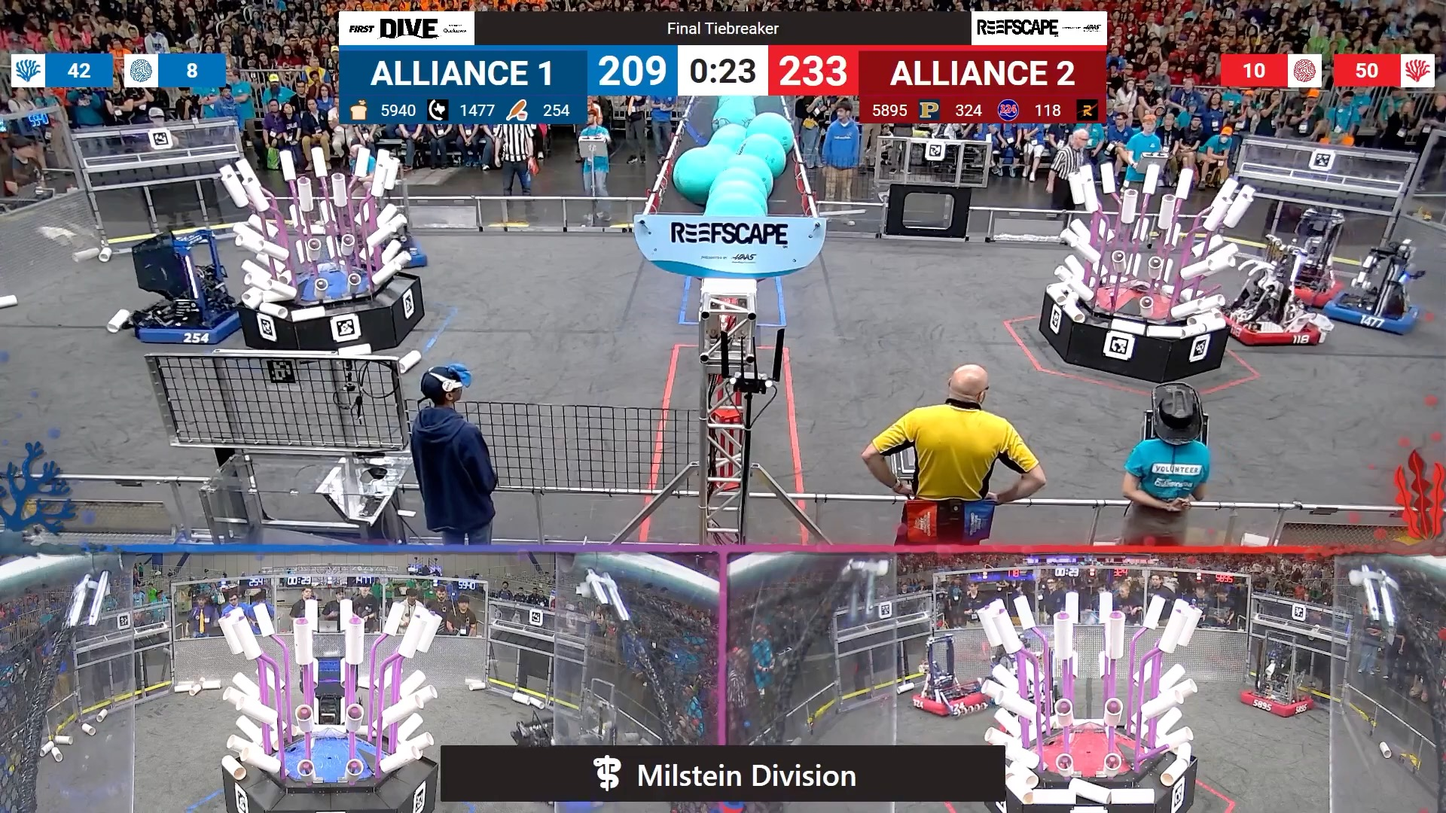bumpers: (1217, 305, 1332, 356), (1310, 289, 1426, 339), (139, 298, 249, 350), (1266, 265, 1352, 308), (909, 686, 996, 721), (1231, 687, 1318, 720), (375, 240, 438, 273)
